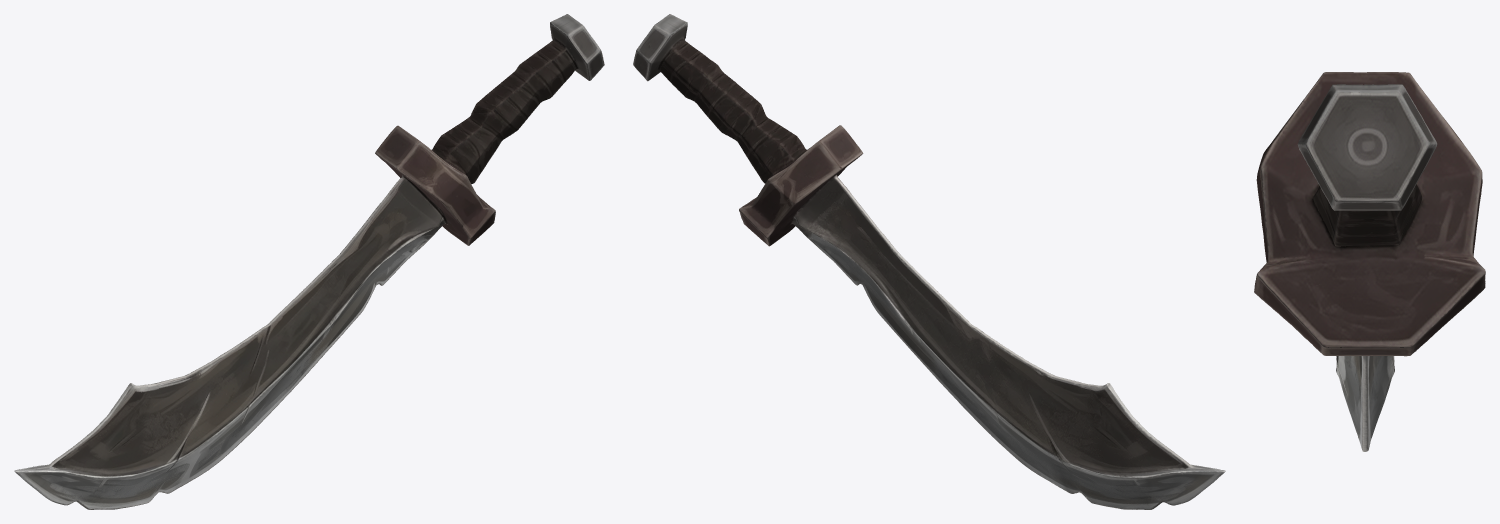
File: Meshy_AI_Crescent_Reaver_20261111_texture.fbx
The picture shows the model from 3 angles, left to right: view 1: azimuth 30°, elevation 25°; view 2: azimuth 150°, elevation 25°; view 3: azimuth 270°, elevation 25°; orthographic projection. The views are drawn at different scales.
Parts seen in each view (by area): view 1: Mesh_0; view 2: Mesh_0; view 3: Mesh_0.
Part boxes in pixels (x1=…): Mesh_0: x1=14, y1=14, x2=604, y2=509; Mesh_0: x1=633, y1=14, x2=1225, y2=509; Mesh_0: x1=1254, y1=72, x2=1485, y2=451.
Size of the model in its own units: 190 by 118 by 32.69.
1 material, 1 textured.
